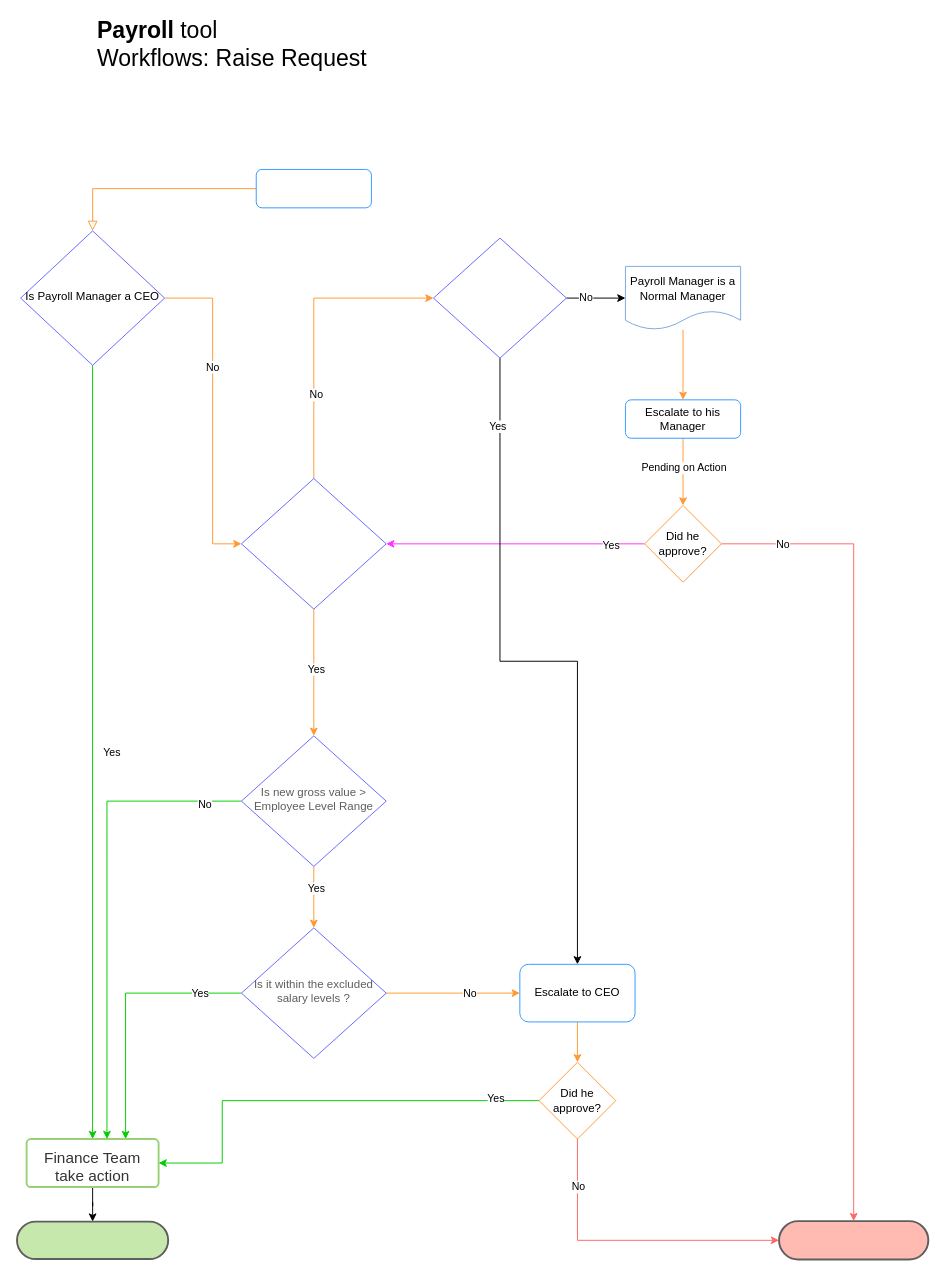
Some shapes in this 947 by 1277 pixel diagram are drawn without their labels. The shapes that lost their labels are listed below. From the top down, each one's centre as x and y in pixels, then its label:
point 313,188: Payroll Manager Creates a Request
point 499,297: Reports to CEO
point 313,543: Is Payroll Manager a UnitHead
point 92,1240: Raise is Applied
point 853,1240: Request is Denied
